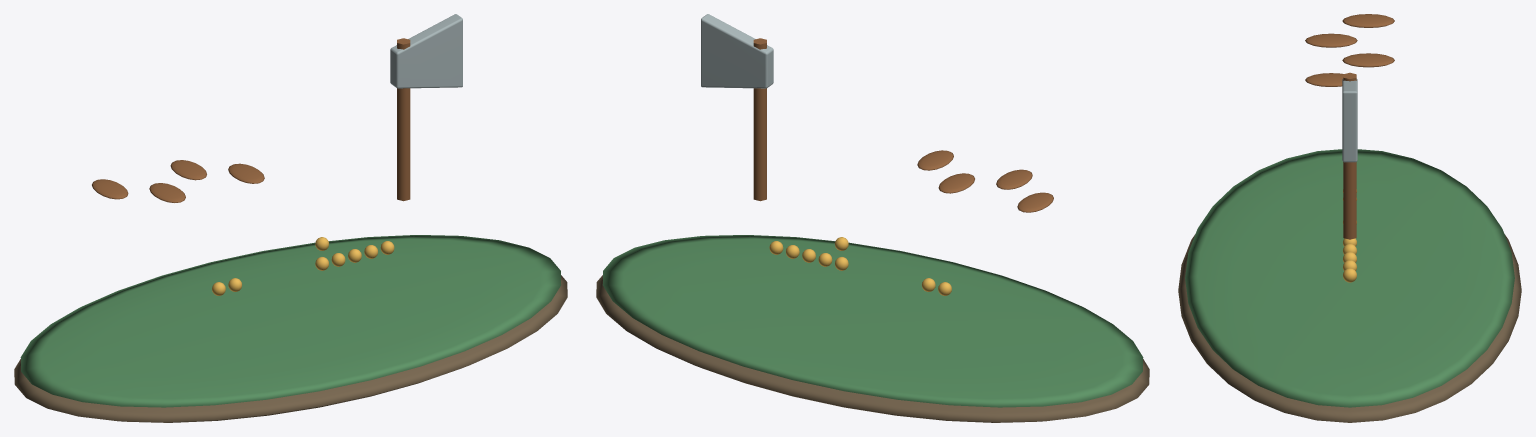
The model's file is complete-first-increasing-steps.glb.
3 renders of one model, left to right at view 1: azimuth 30°, elevation 25°; view 2: azimuth 150°, elevation 25°; view 3: azimuth 270°, elevation 25°, orthographic. The views are drawn at different scales.
Parts seen in each view (by area): view 1: complete-first-increasing-steps_surface_01, complete-first-increasing-steps_surface_00, complete-first-increasing-steps_surface_03, complete-first-increasing-steps_surface_02, complete-first-increasing-steps_surface_04; view 2: complete-first-increasing-steps_surface_01, complete-first-increasing-steps_surface_00, complete-first-increasing-steps_surface_03, complete-first-increasing-steps_surface_02, complete-first-increasing-steps_surface_04; view 3: complete-first-increasing-steps_surface_01, complete-first-increasing-steps_surface_00, complete-first-increasing-steps_surface_02, complete-first-increasing-steps_surface_03, complete-first-increasing-steps_surface_04.
Boxes of the visible parts, x1=… form: complete-first-increasing-steps_surface_01: x1=20, y1=235, x2=561, y2=407; complete-first-increasing-steps_surface_00: x1=14, y1=275, x2=567, y2=422; complete-first-increasing-steps_surface_03: x1=390, y1=14, x2=462, y2=88; complete-first-increasing-steps_surface_02: x1=92, y1=38, x2=410, y2=202; complete-first-increasing-steps_surface_04: x1=212, y1=237, x2=394, y2=295; complete-first-increasing-steps_surface_01: x1=602, y1=235, x2=1143, y2=407; complete-first-increasing-steps_surface_00: x1=596, y1=275, x2=1149, y2=422; complete-first-increasing-steps_surface_03: x1=701, y1=14, x2=773, y2=88; complete-first-increasing-steps_surface_02: x1=753, y1=38, x2=1053, y2=212; complete-first-increasing-steps_surface_04: x1=769, y1=237, x2=951, y2=295; complete-first-increasing-steps_surface_01: x1=1185, y1=149, x2=1514, y2=407; complete-first-increasing-steps_surface_00: x1=1178, y1=234, x2=1521, y2=422; complete-first-increasing-steps_surface_02: x1=1305, y1=14, x2=1394, y2=239; complete-first-increasing-steps_surface_03: x1=1342, y1=79, x2=1357, y2=162; complete-first-increasing-steps_surface_04: x1=1342, y1=189, x2=1357, y2=282.
Size of the model in its own units: 4.56 by 2.4 by 2.5.
